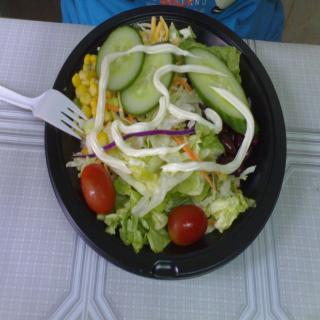tomato: (165, 204, 205, 246), (81, 165, 114, 212)
